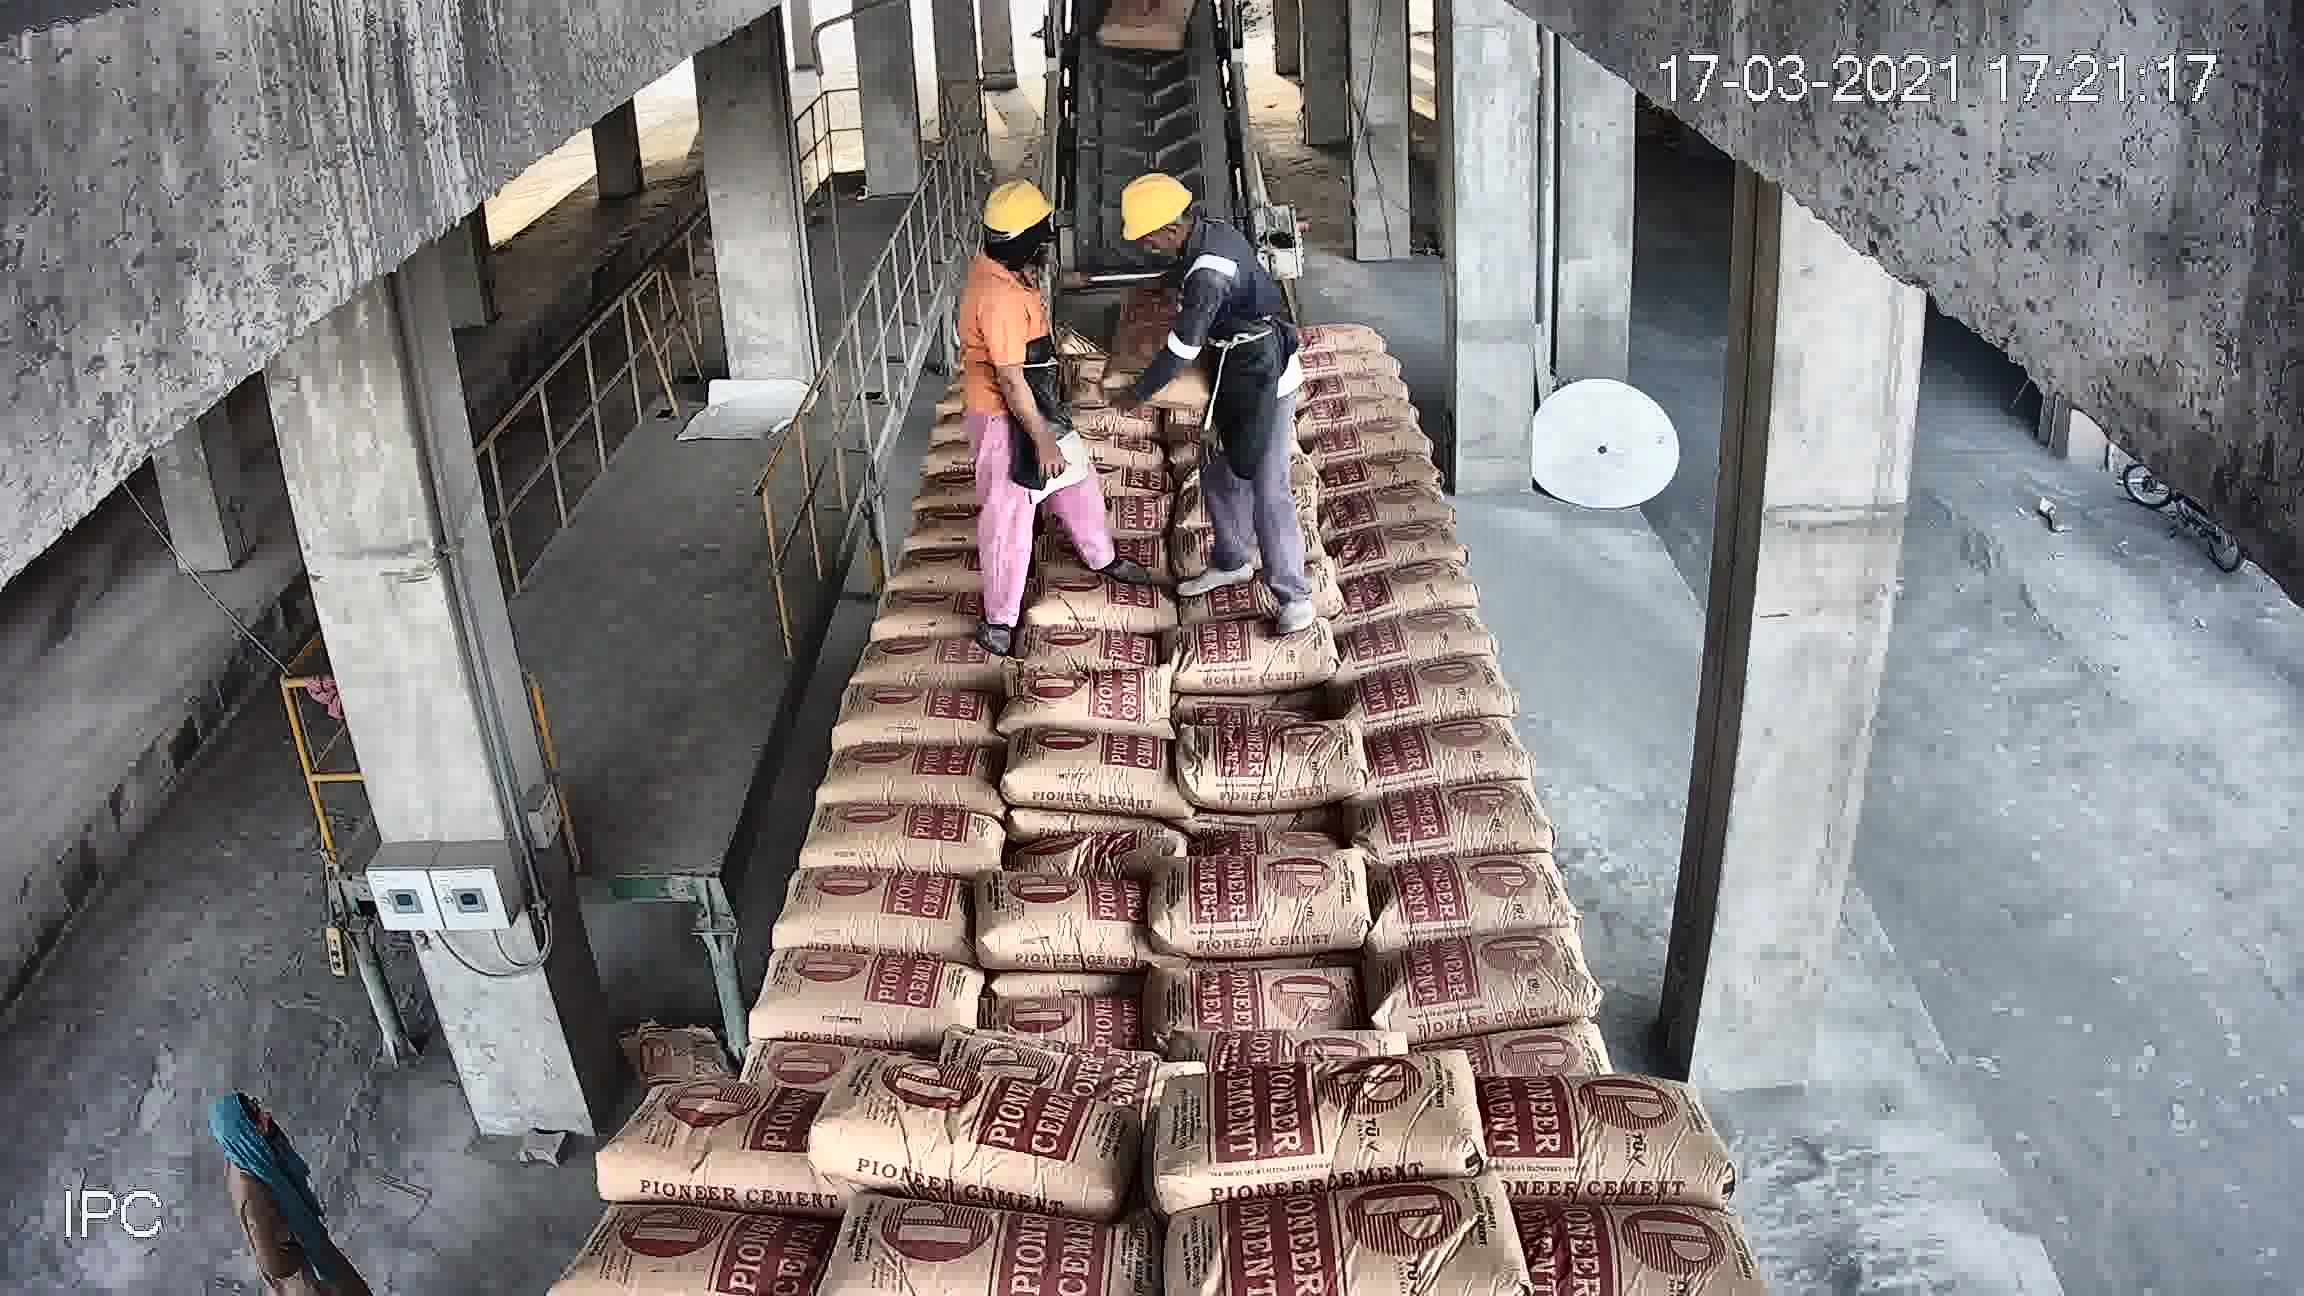bag_h: (1179, 1040, 1497, 1203), (1124, 1187, 1541, 1296), (1128, 930, 1457, 1062), (1133, 812, 1412, 964), (829, 1082, 1154, 1211), (1472, 1055, 1745, 1206), (1449, 946, 1684, 1097), (1143, 696, 1408, 828), (1513, 1184, 1794, 1296), (885, 945, 1139, 1067), (1364, 744, 1597, 873), (593, 1078, 813, 1212), (649, 949, 873, 1078), (824, 1188, 1161, 1271), (918, 839, 1146, 957), (1419, 853, 1655, 965), (891, 742, 1131, 850), (538, 1204, 824, 1272), (668, 870, 892, 956), (712, 791, 899, 870), (999, 654, 1177, 734), (1367, 706, 1552, 772), (999, 582, 1184, 639), (1389, 649, 1514, 729), (994, 725, 1177, 779), (736, 734, 908, 790), (1022, 529, 1166, 587), (1013, 623, 1180, 673), (1188, 517, 1304, 581), (1165, 612, 1264, 684), (1158, 567, 1291, 619)
belt: (1033, 24, 1282, 470)
